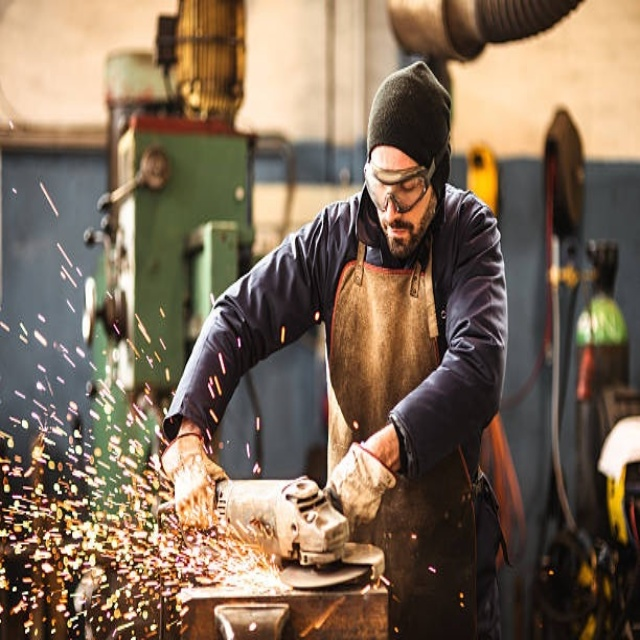Gafas: (366, 156, 437, 216)
Guantes: (160, 431, 230, 527), (330, 438, 397, 530)
Sin_mascara: (382, 221, 409, 253)
